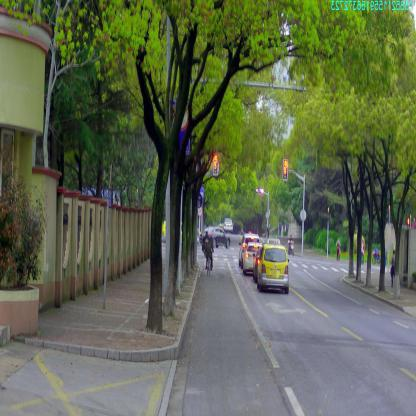traffic-light: (214, 154, 219, 175), (283, 160, 288, 180)
